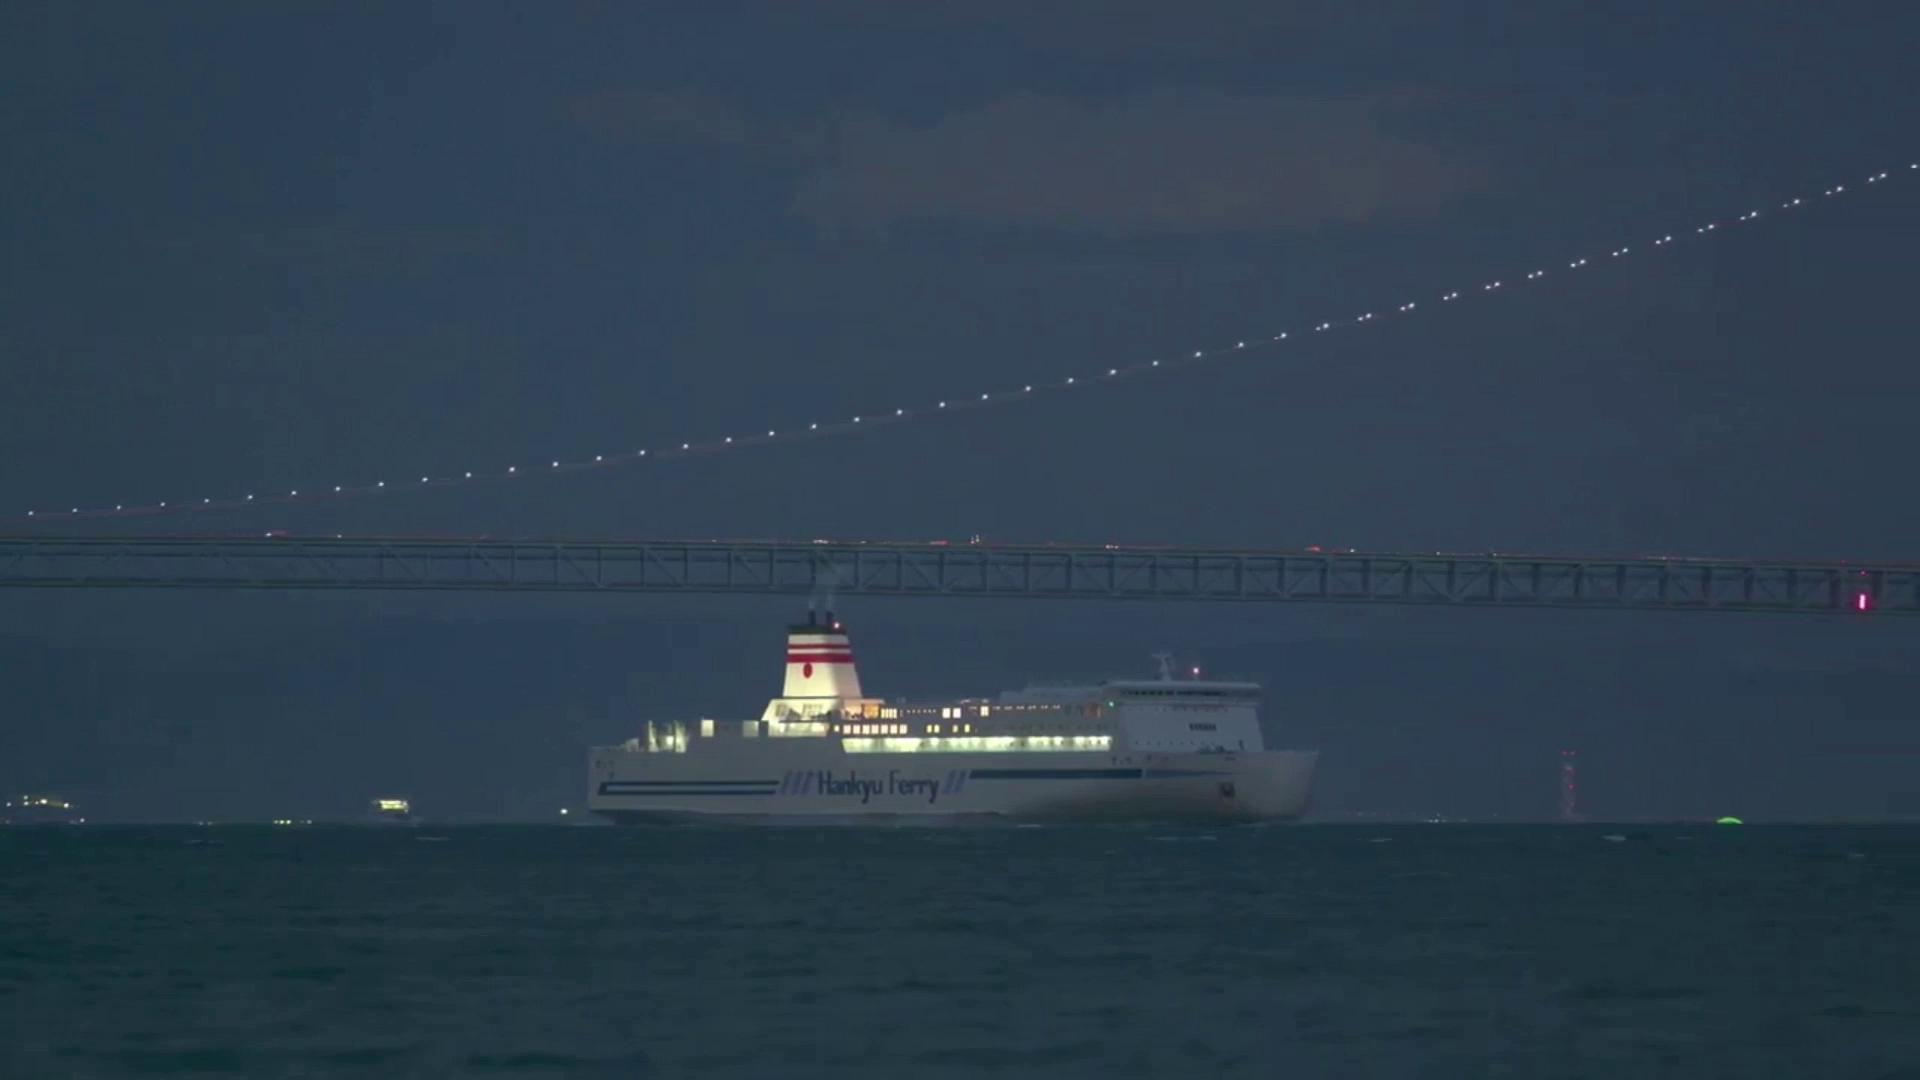OCR: (803, 765, 945, 815)
